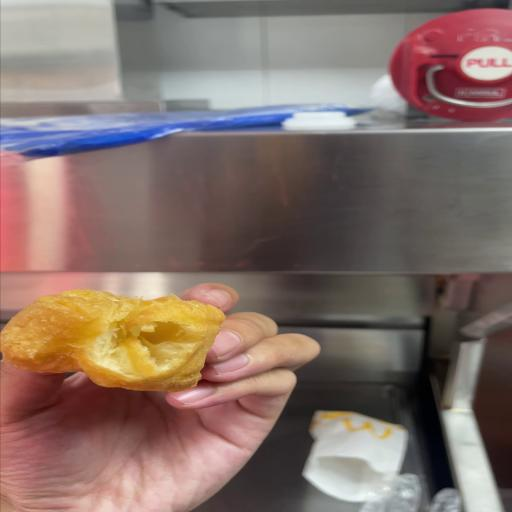brand_golden_defect: (0, 290, 225, 392)
